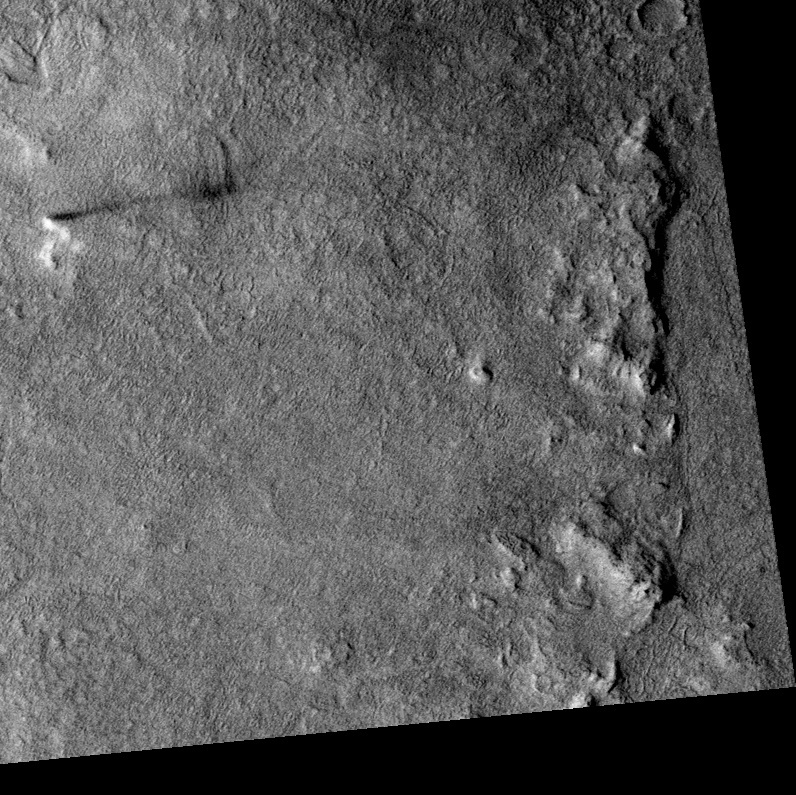dust_devil: (40, 169, 242, 254)
